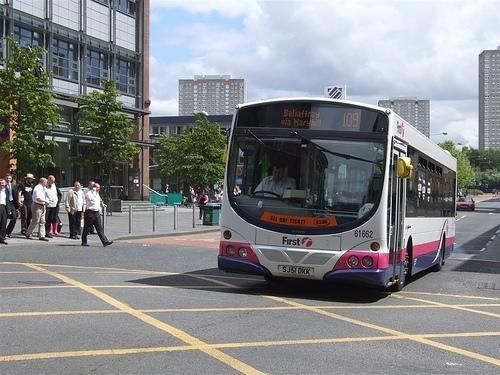bus: (217, 95, 460, 292)
car: (458, 197, 476, 211)
